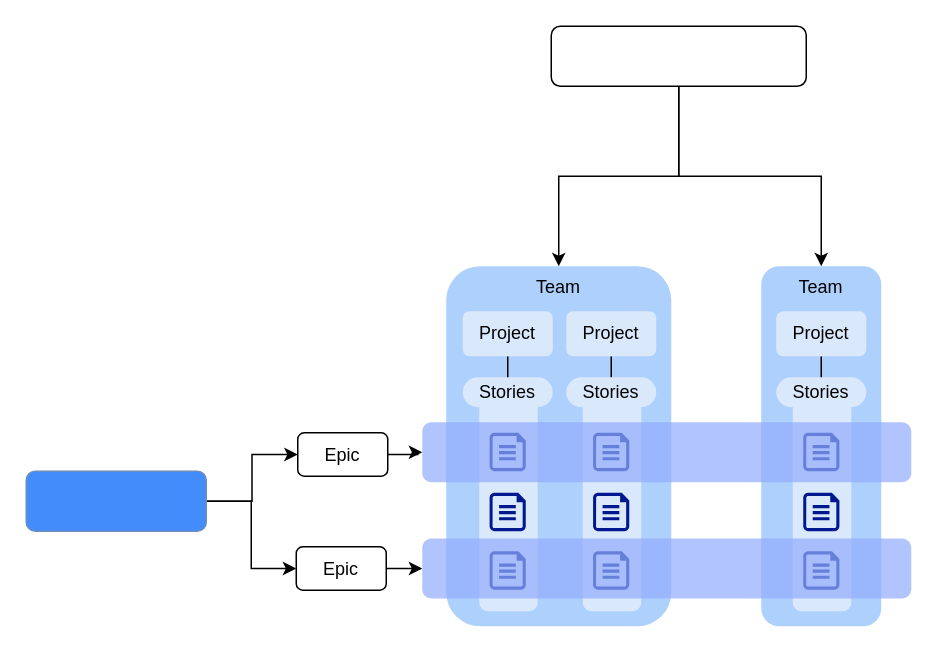
Image size: 938x653. Some labels were removed from this diagram. The shapes that lost their labels are listed below. From the top down, each one's box as (x1, y1, x2, y2) in pixels, then its label:
(550, 25, 806, 86): Organisation
(25, 470, 206, 531): Milestone
